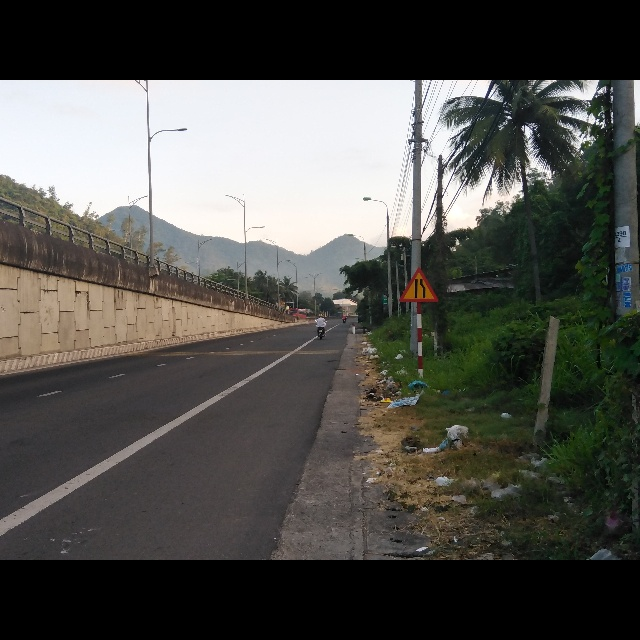Đường bị hẹp bên phải: (399, 265, 441, 303)
